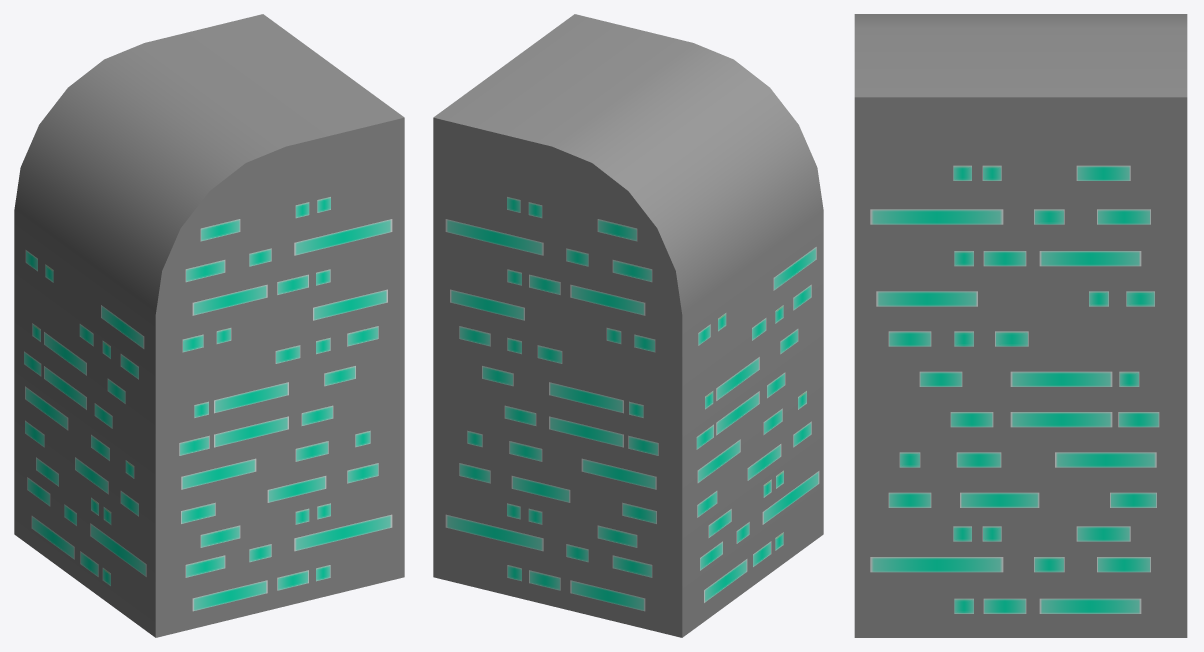
File: Building_034.fbx
3 renders of one model, left to right at view 1: azimuth 30°, elevation 25°; view 2: azimuth 150°, elevation 25°; view 3: azimuth 270°, elevation 25°, orthographic. The views are drawn at different scales.
Visible parts, largest first — view 1: Building_034; view 2: Building_034; view 3: Building_034.
Part boxes in pixels (box(x1,y1,x2,y2)): Building_034: box(14, 14, 404, 637); Building_034: box(433, 14, 823, 637); Building_034: box(854, 14, 1187, 637).
Size of the model in its own units: 30.33 by 52.82 by 29.84.
Materials: 2 (1 with a texture image).
